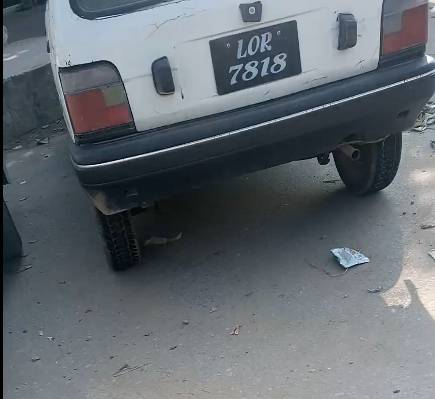number_plate: (208, 30, 315, 89)
